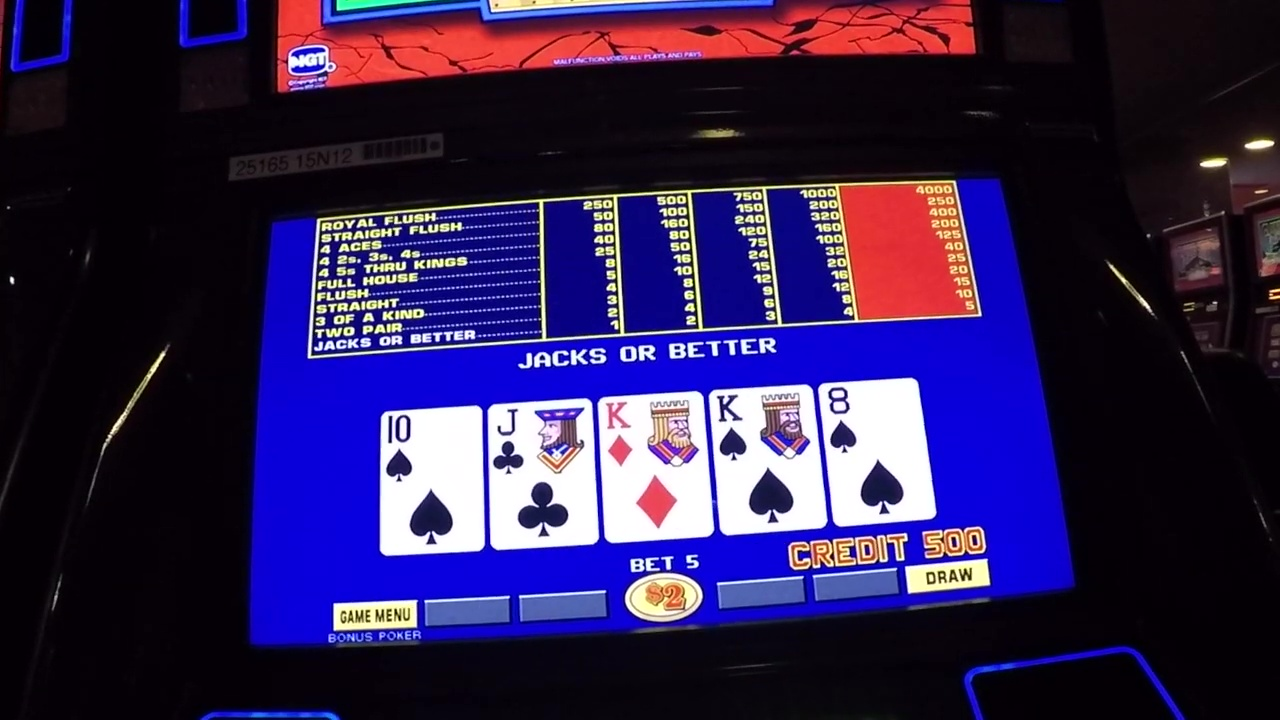CJ: (491, 405, 591, 480)
DK: (603, 399, 705, 472)
S8: (828, 383, 920, 454)
SK: (717, 393, 814, 465)
ST: (385, 411, 481, 480)
